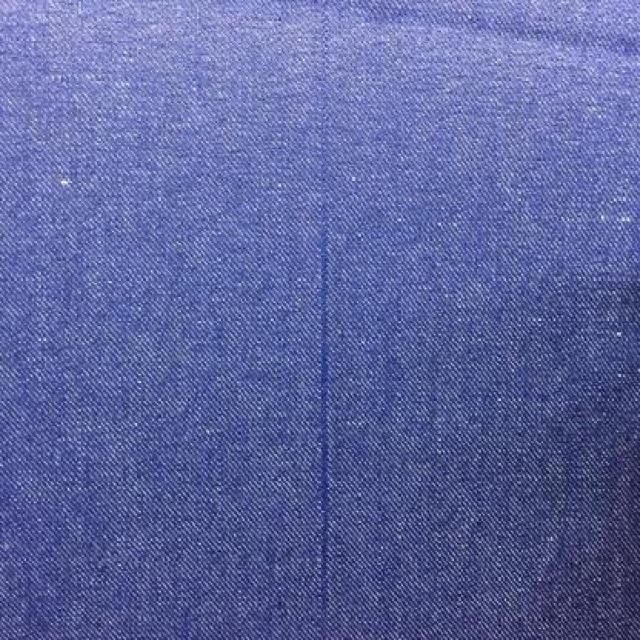pulled_or_thick_thread: (320, 206, 331, 614)
